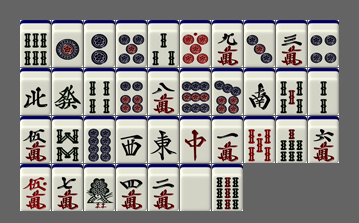0m: (20, 164, 51, 211)
0p: (180, 20, 211, 67)
0s: (244, 116, 275, 163)
1m: (212, 116, 243, 163)
1p: (52, 20, 83, 67)
1s: (84, 164, 115, 211)
1z: (148, 116, 179, 163)
2m: (148, 164, 179, 211)
2p: (84, 20, 115, 67)
2s: (308, 68, 339, 115)
2z: (244, 68, 275, 115)
3m: (276, 20, 307, 67)
3p: (244, 20, 275, 67)
3s: (148, 20, 179, 67)
3z: (116, 116, 147, 163)
4m: (116, 164, 147, 211)
4p: (308, 20, 339, 67)
4s: (84, 68, 115, 115)
4z: (20, 68, 51, 115)
5m: (20, 116, 51, 163)
5p: (116, 20, 147, 67)
5s: (276, 68, 307, 115)
5z: (180, 164, 211, 211)
6m: (308, 116, 339, 163)
6p: (116, 68, 147, 115)
6s: (20, 20, 51, 67)
6z: (52, 68, 83, 115)
7m: (52, 164, 83, 211)
7p: (212, 68, 243, 115)
7s: (276, 116, 307, 163)
7z: (180, 116, 211, 163)
8m: (148, 68, 179, 115)
8p: (84, 116, 115, 163)
8s: (52, 116, 83, 163)
9m: (212, 20, 243, 67)
9p: (180, 68, 211, 115)
9s: (212, 164, 243, 211)
